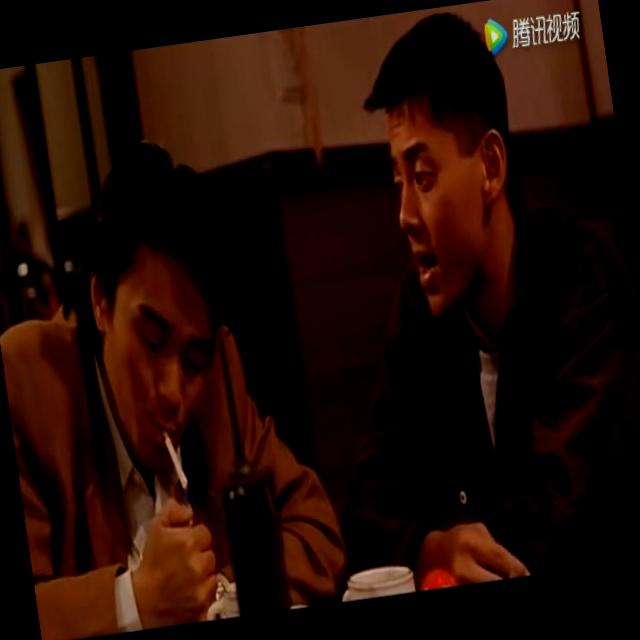smoke: (155, 422, 192, 492)
